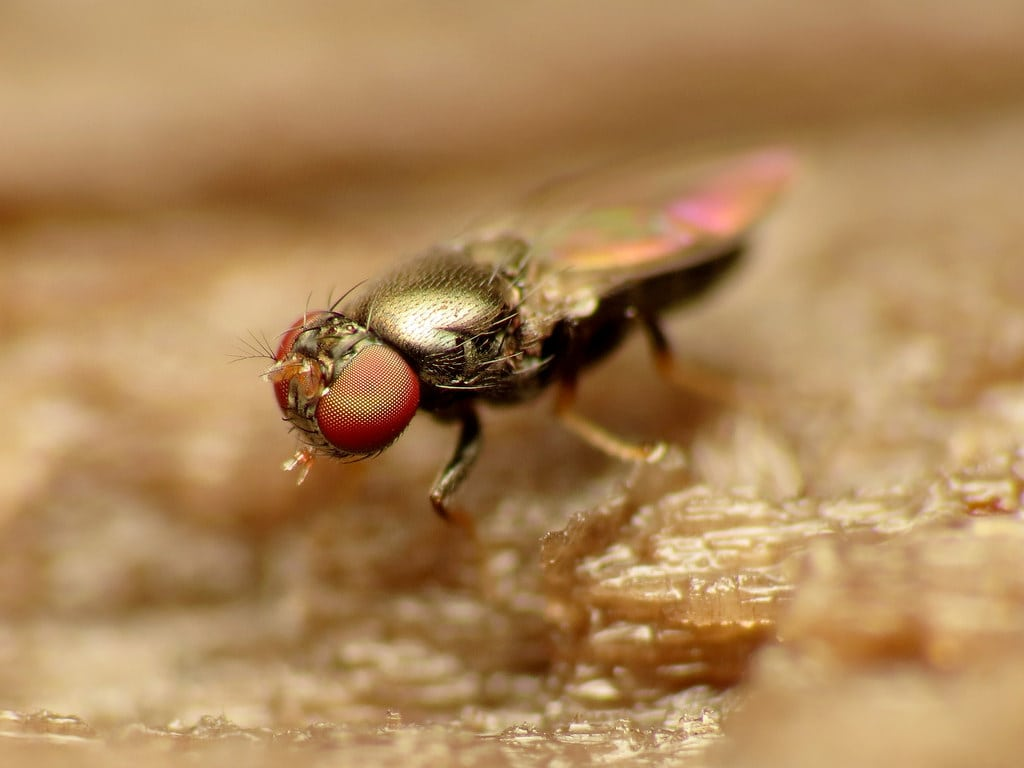Fruit fly: (221, 133, 768, 540)
